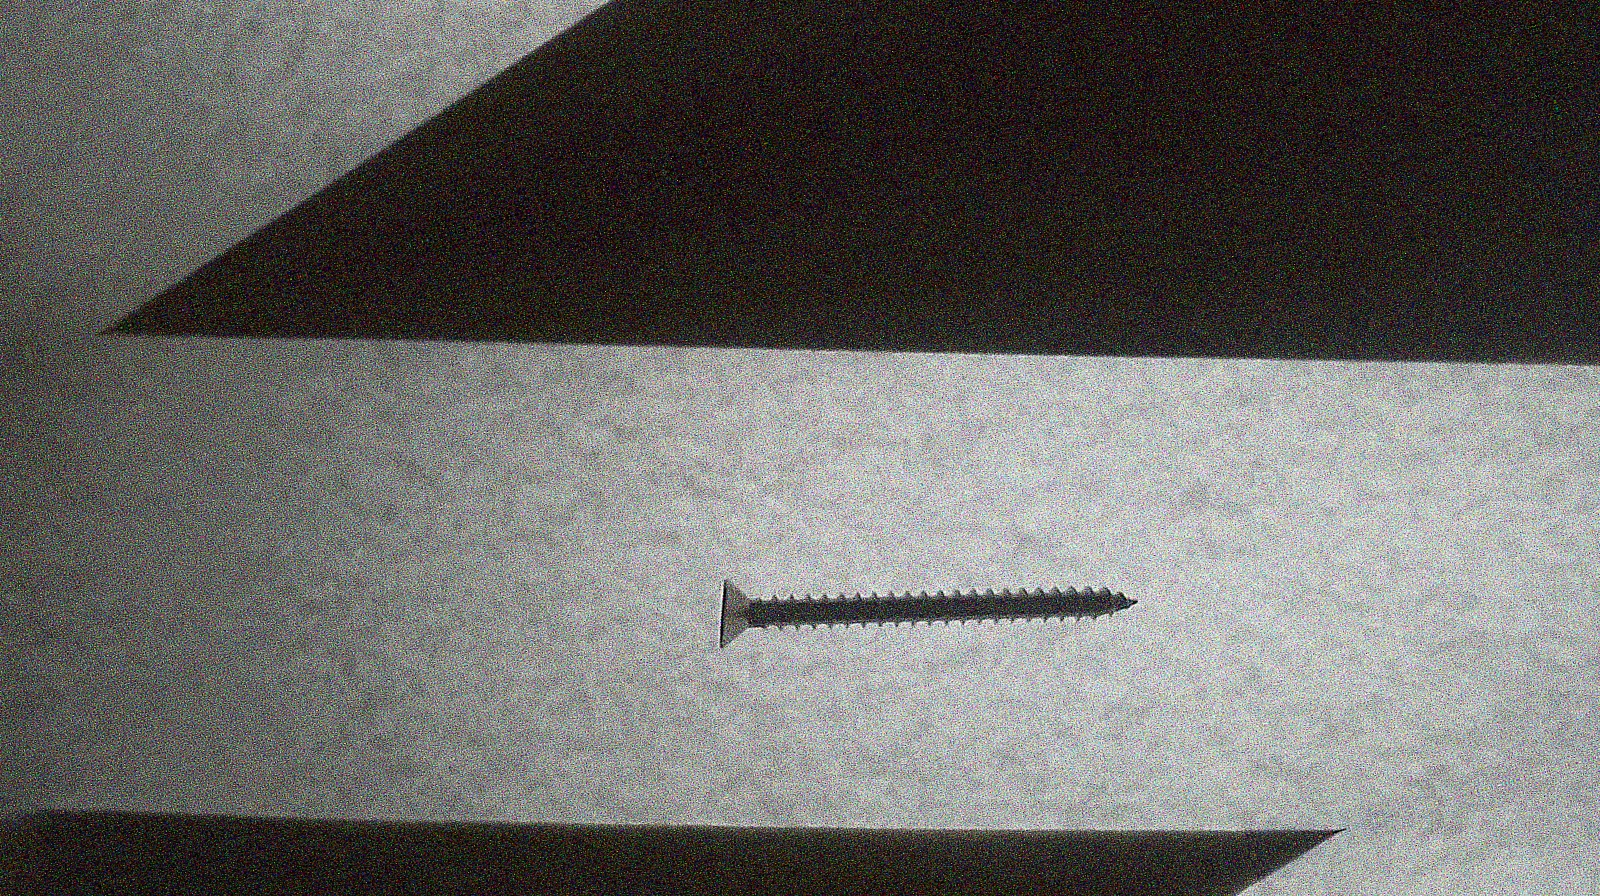S002: (686, 455, 1155, 740)
